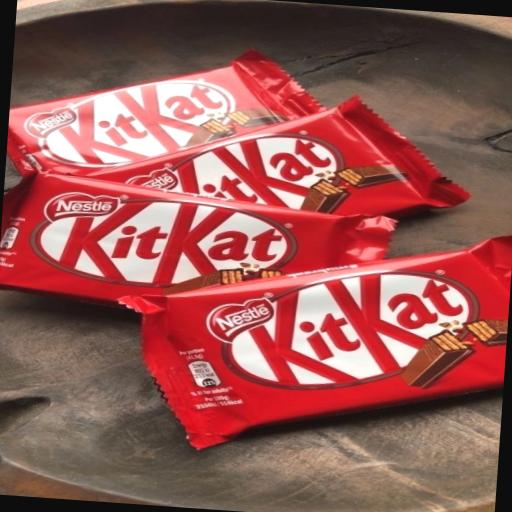kitkat: (101, 249, 511, 495)
